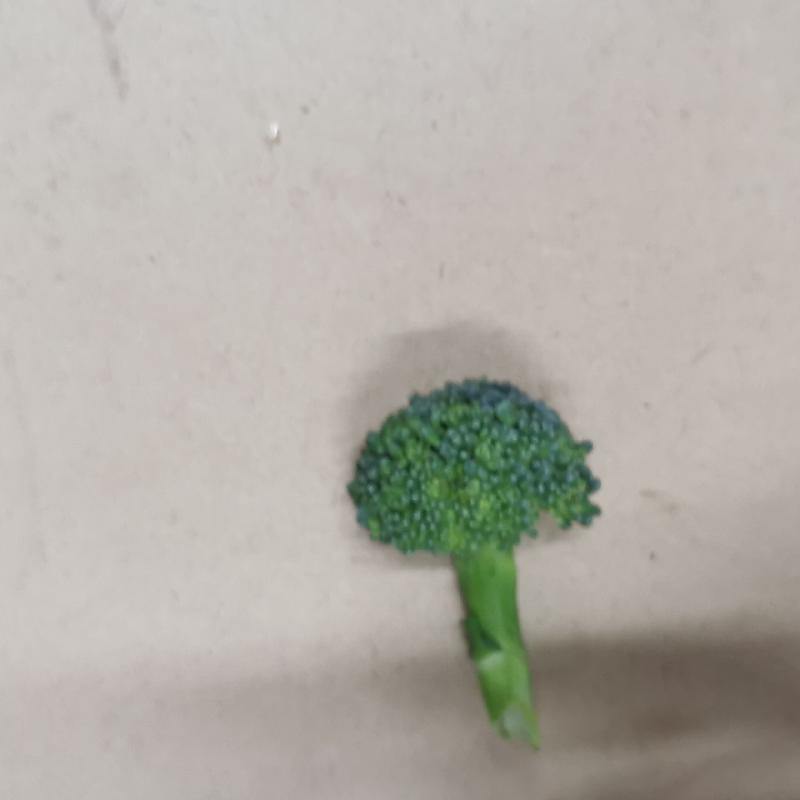broccoli: (347, 375, 600, 751)
